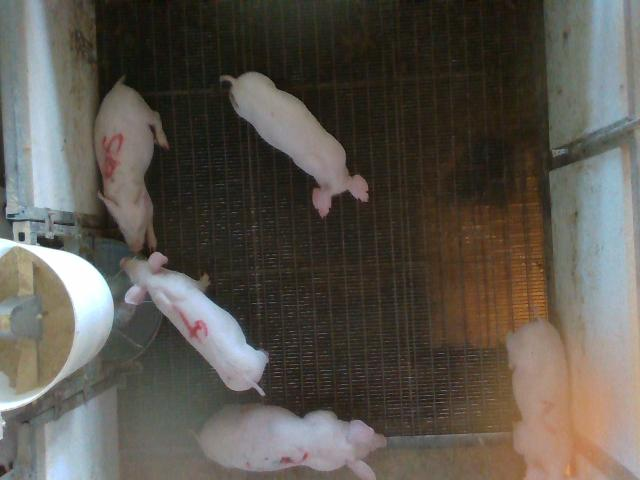pig-2: (506, 319, 572, 479)
pig-3: (196, 405, 386, 479)
pig-4: (121, 252, 269, 394)
pig-5: (95, 76, 169, 252)
